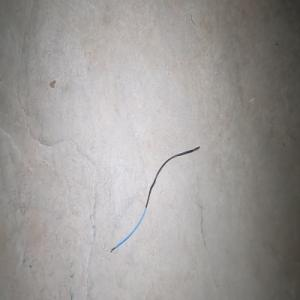Wire: (110, 146, 200, 252)
